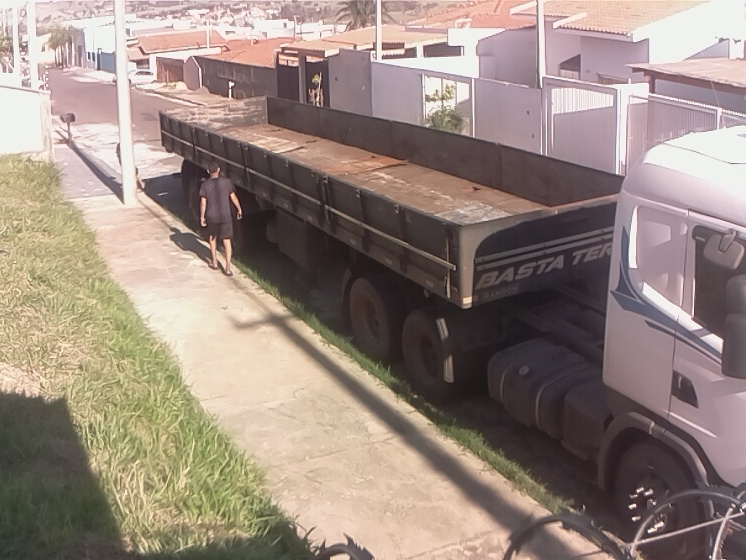person: (195, 161, 246, 277)
